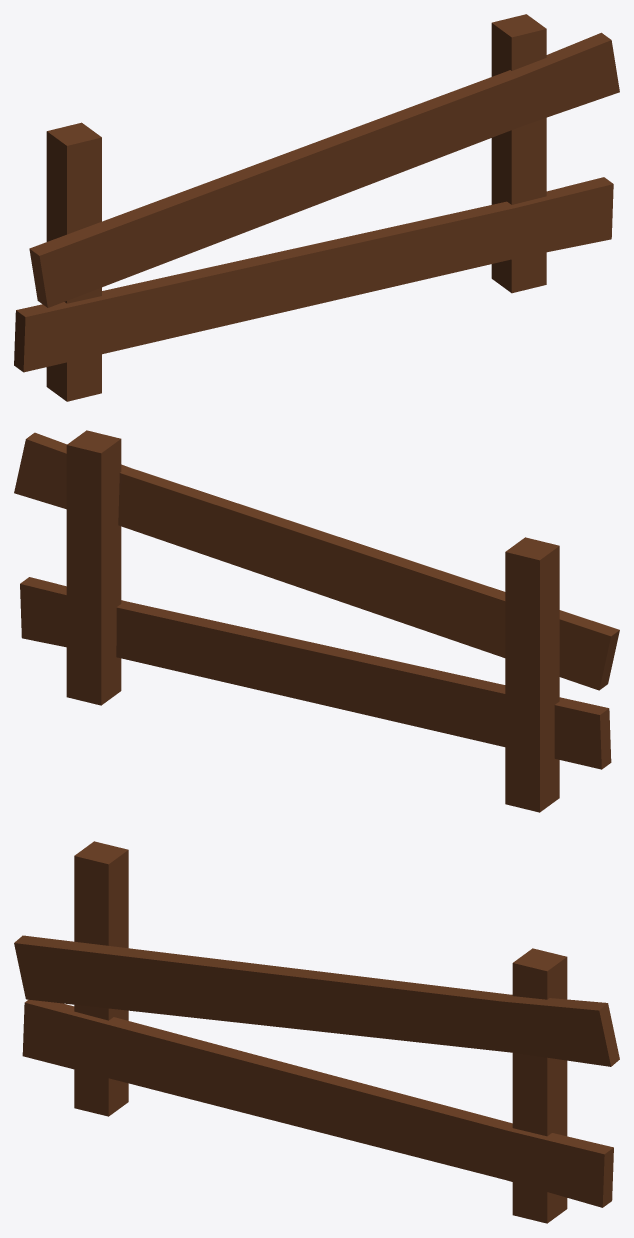
File: Fence_2.fbx
3 renders of one model, top to bottom at view 1: azimuth 30°, elevation 25°; view 2: azimuth 150°, elevation 25°; view 3: azimuth 330°, elevation 25°, orthographic.
Visible parts, largest first — view 1: Fence_2; view 2: Fence_2; view 3: Fence_2.
Part boxes in pixels (x1,y1,x2,y2): Fence_2: (14, 14, 619, 401); Fence_2: (14, 430, 619, 812); Fence_2: (14, 841, 619, 1223).
Size of the model in its own units: 261 by 107 by 27.99.
